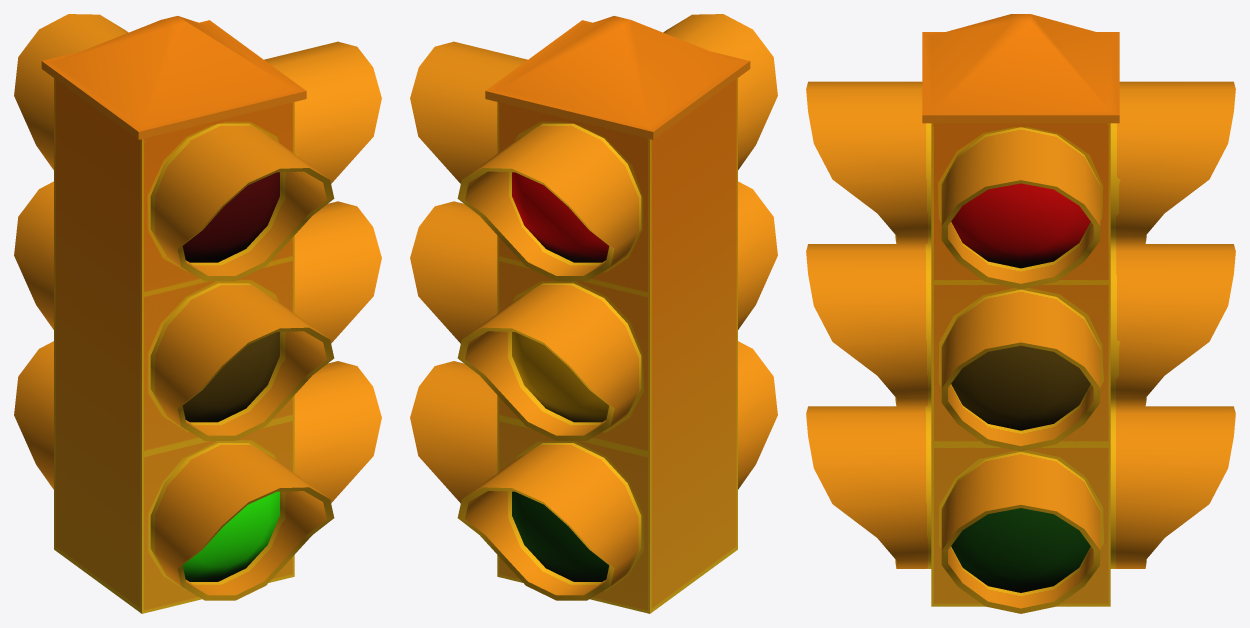
Rendered from Elvis_TrafficLights_01.FBX.
3 renders of one model, left to right at view 1: azimuth 30°, elevation 25°; view 2: azimuth 150°, elevation 25°; view 3: azimuth 270°, elevation 25°, orthographic.
Visible parts, largest first — view 1: TrafficLights; view 2: TrafficLights; view 3: TrafficLights.
Boxes of the visible parts, x1=… form: TrafficLights: x1=14, y1=14, x2=381, y2=613; TrafficLights: x1=410, y1=14, x2=777, y2=613; TrafficLights: x1=806, y1=14, x2=1235, y2=613.
Size of the model in its own units: 3.5 by 4.8 by 6.79.
